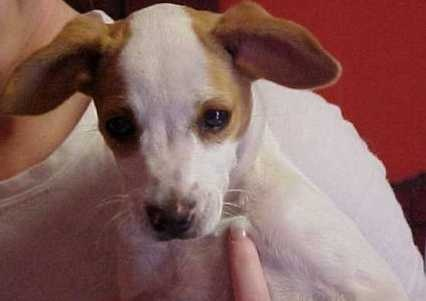Dog: (0, 2, 381, 260)
